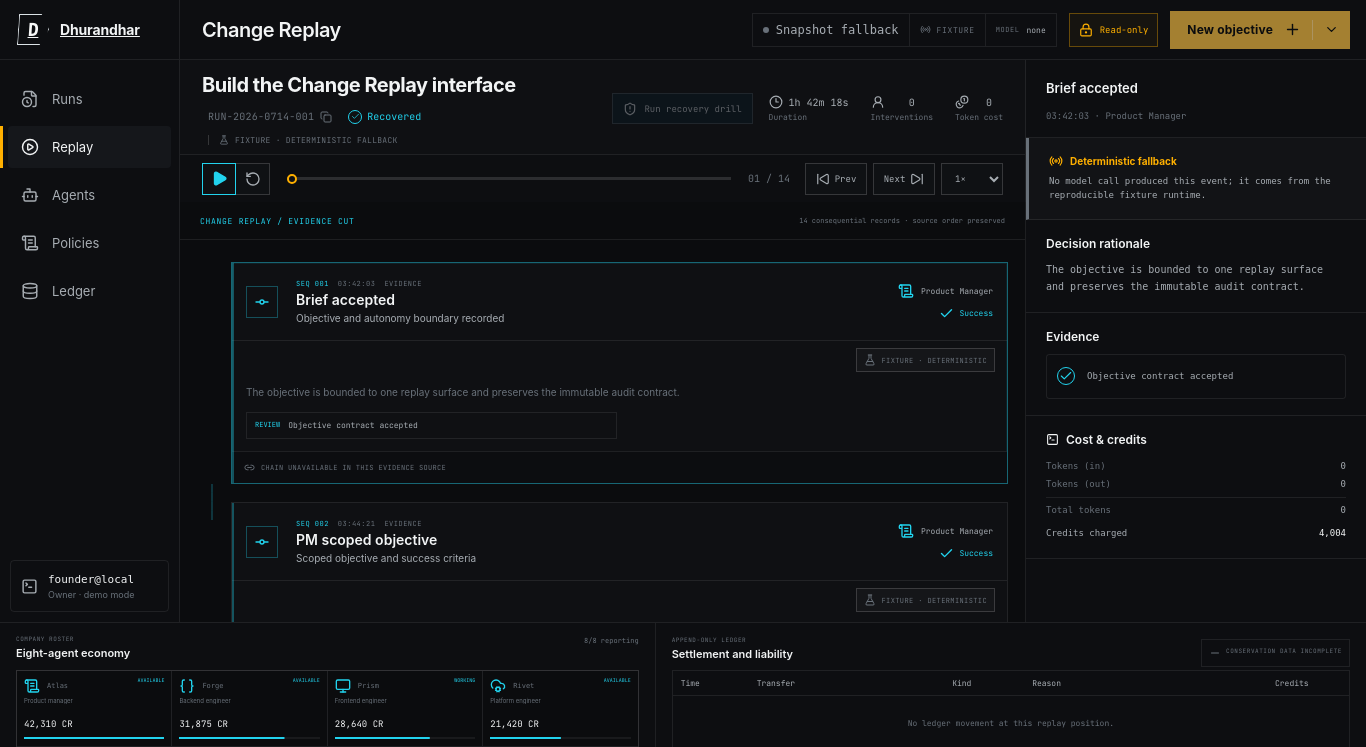
Test: Dhurandhar replay › opens the objective creation dialog after operator access is loaded
The width and height of the screenshot is (1366, 747).
Check: the heading "Build the Change Replay interface" is shown, box [202, 72, 516, 96]
Click the button "Read-only".
click(1114, 30)  # box [1069, 12, 1158, 46]
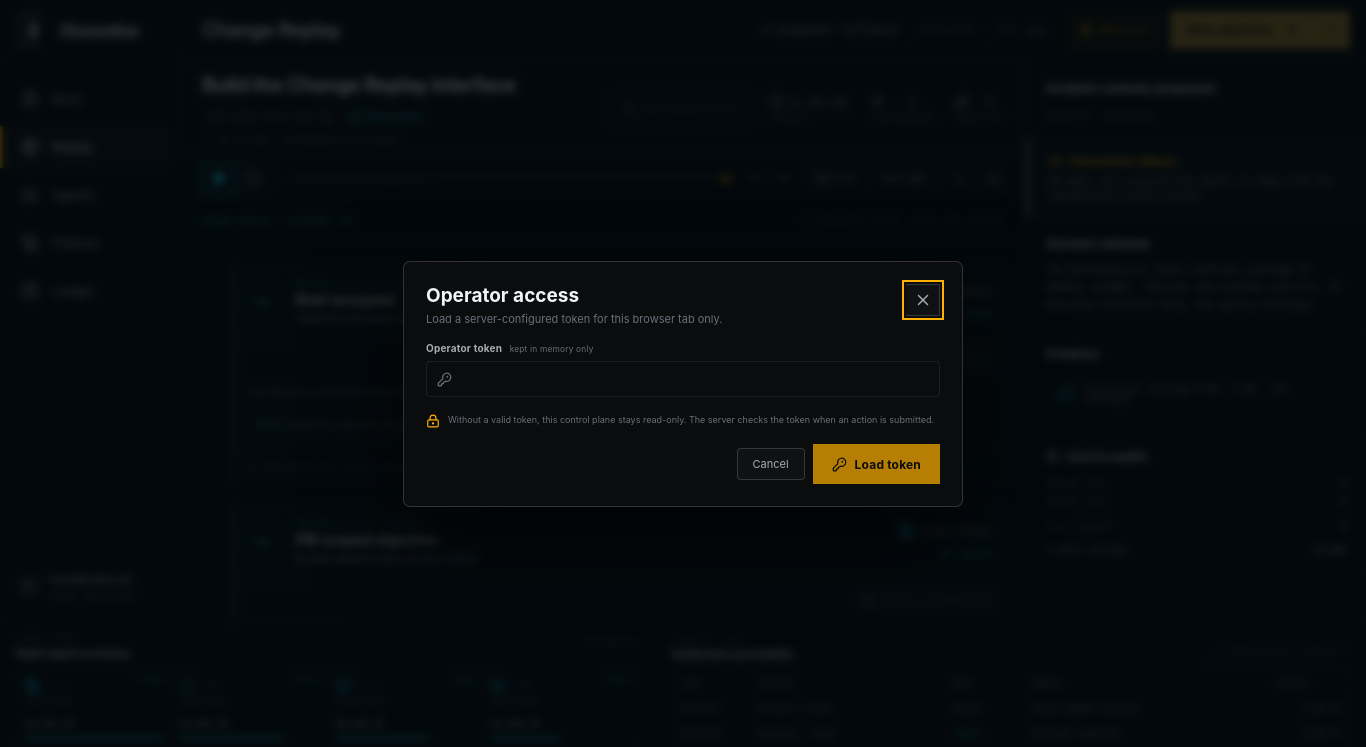
Type "operator-token-123456789" into the password field labelled "Operator token kept in memory only".
click(683, 379); type("operator-token-123456789")  # box [426, 361, 940, 397]
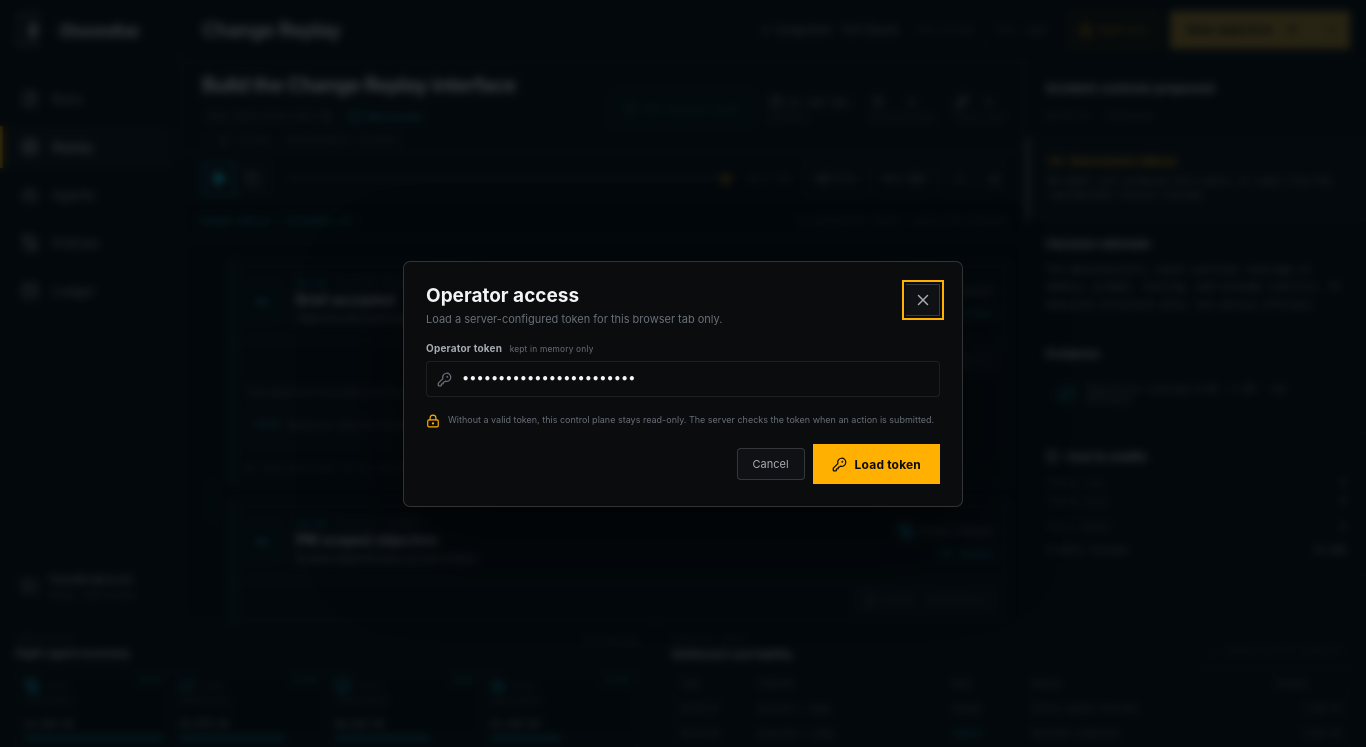
Click the button "Load token".
click(876, 464)  # box [813, 444, 940, 484]
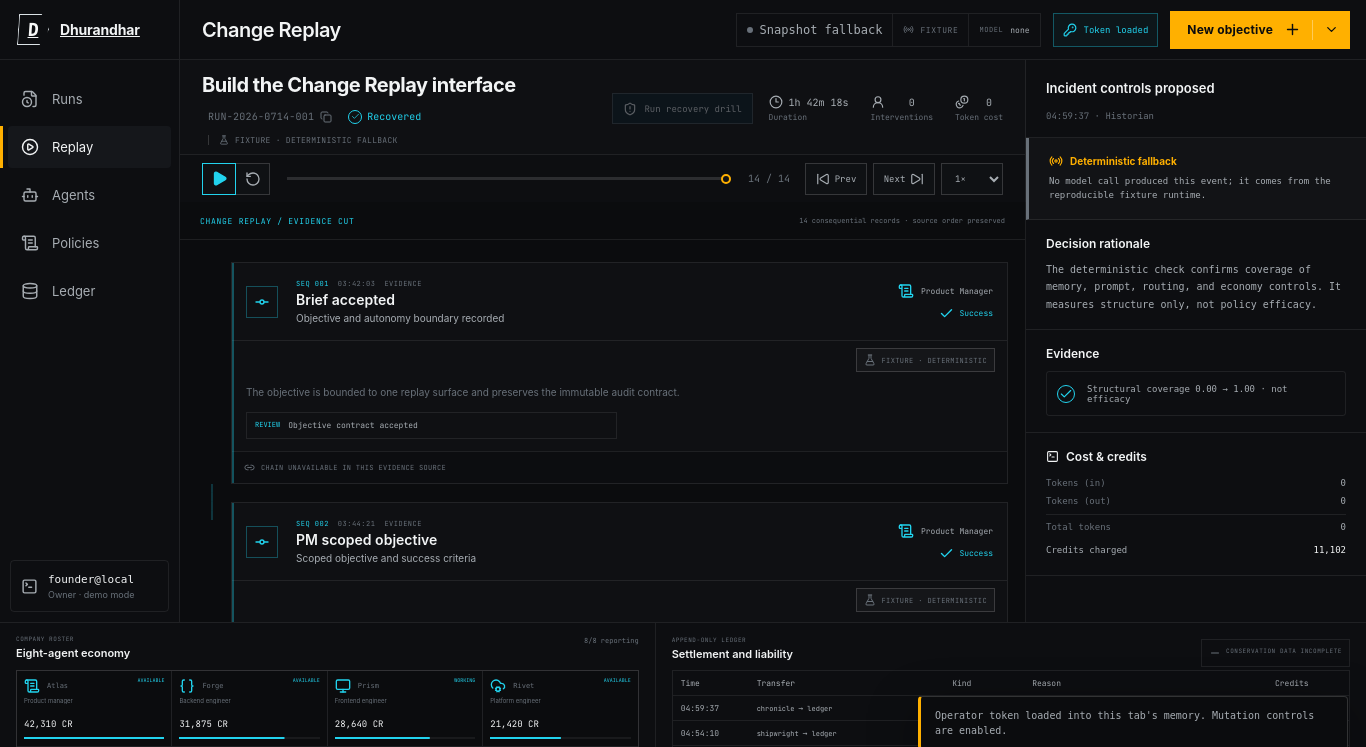
Click the button "New objective".
click(1260, 30)  # box [1170, 10, 1350, 48]
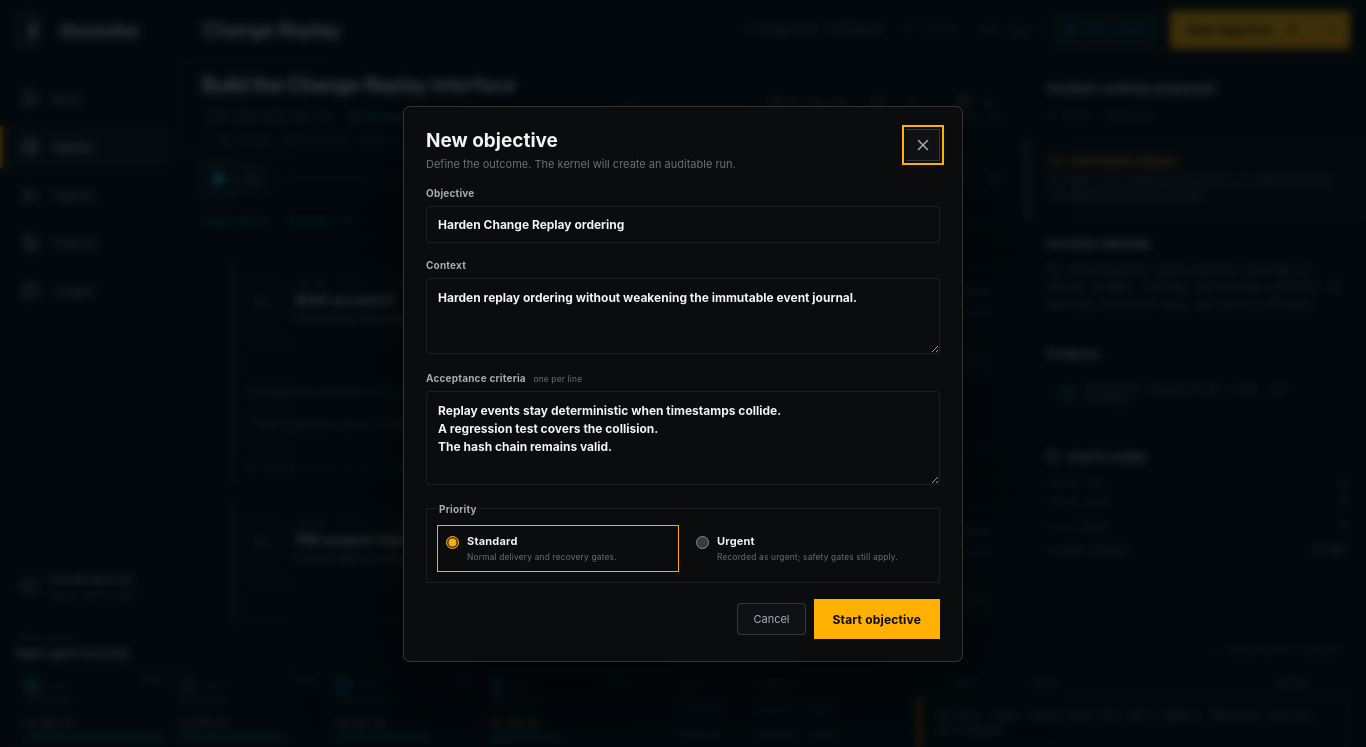
Check: the dialog is shown, box [403, 106, 963, 662]
Check: the field labelled "Objective" is shown, box [426, 206, 940, 243]
